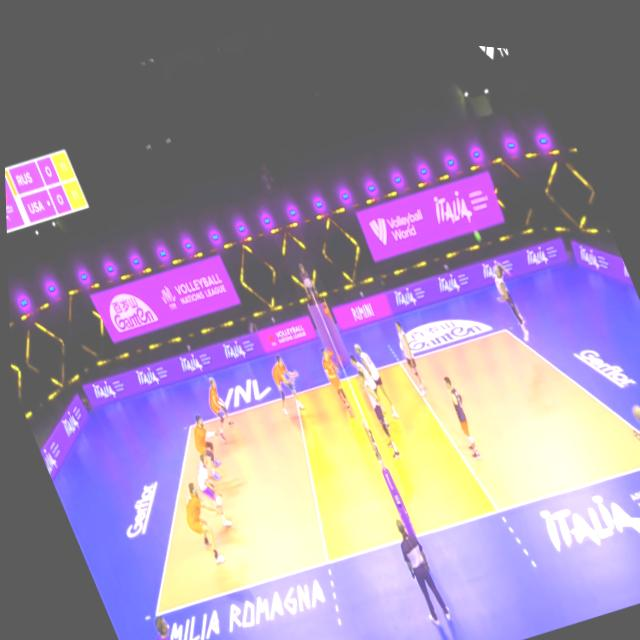player: (168, 472, 231, 567), (480, 242, 537, 339), (343, 325, 400, 417), (434, 357, 486, 451), (181, 442, 236, 528), (353, 361, 401, 451), (257, 342, 307, 413), (180, 402, 231, 469), (312, 335, 355, 411), (388, 311, 430, 385), (196, 366, 238, 434), (343, 338, 381, 399)
